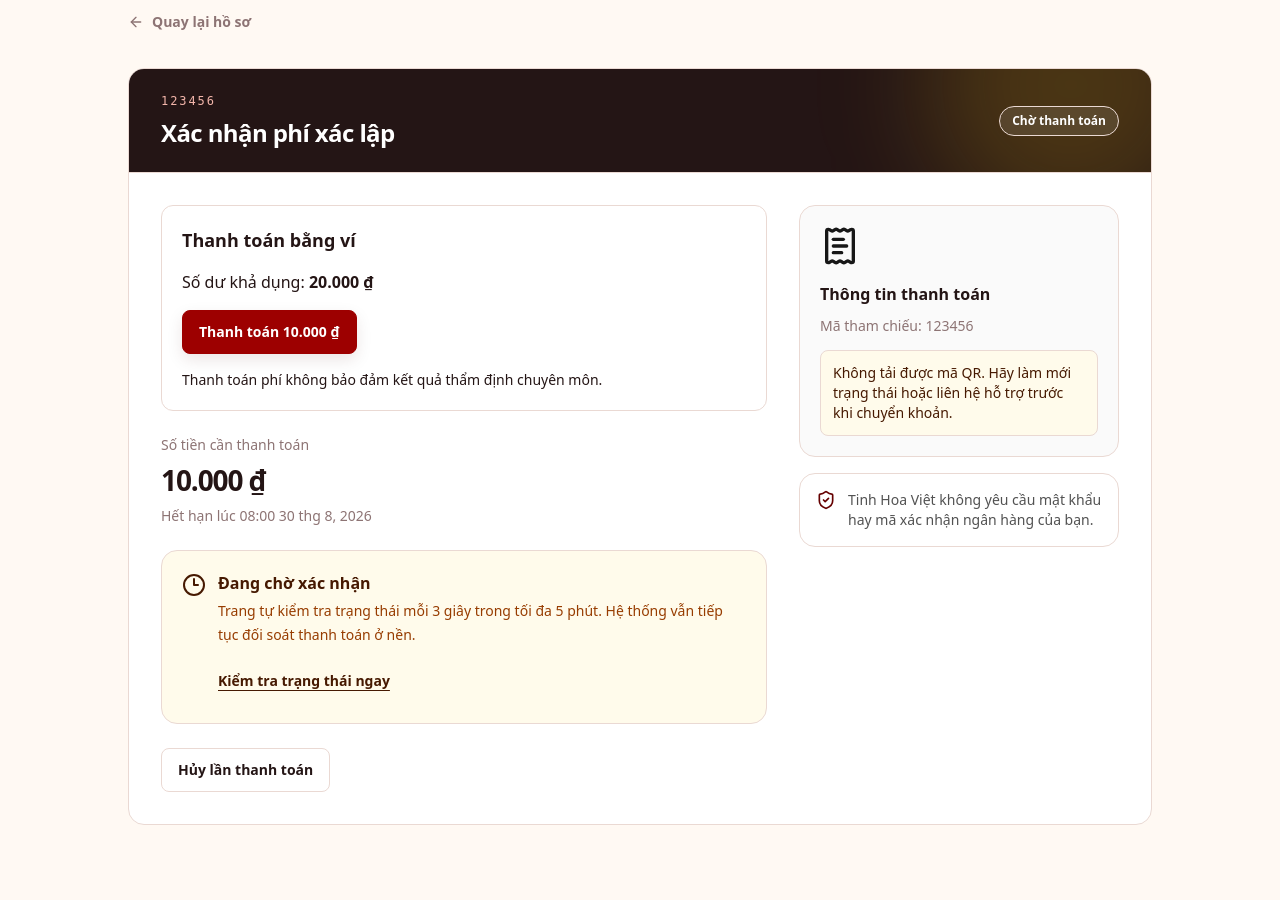
Test: PaymentWorkspace › requires explicit wallet confirmation without creating a provider checkout
This screenshot has width=1280, height=900.
Click the button "Thanh toán 10.000 ₫": (269, 332) [182, 310, 357, 354]
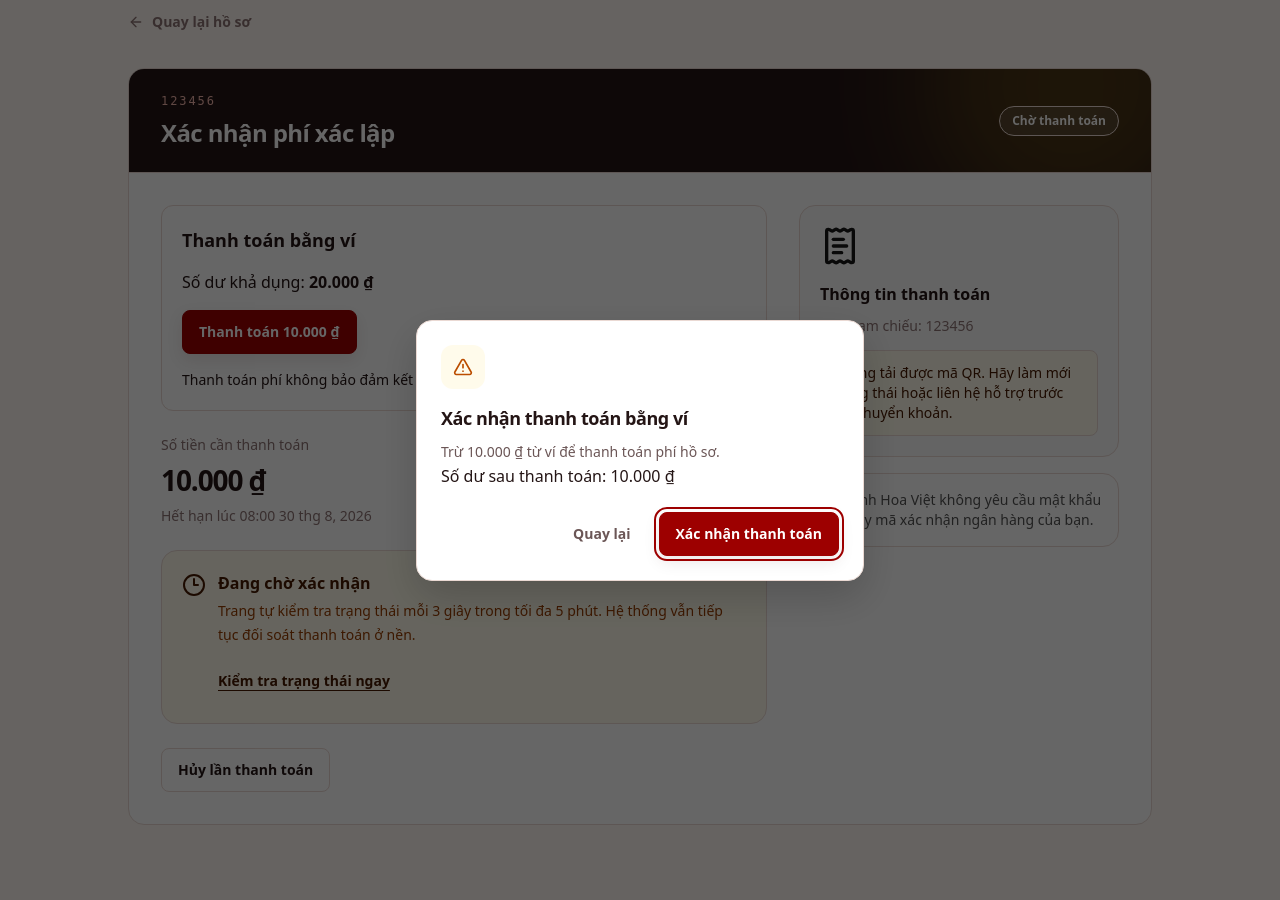
Expected: the dialog "Xác nhận thanh toán bằng ví" is shown
